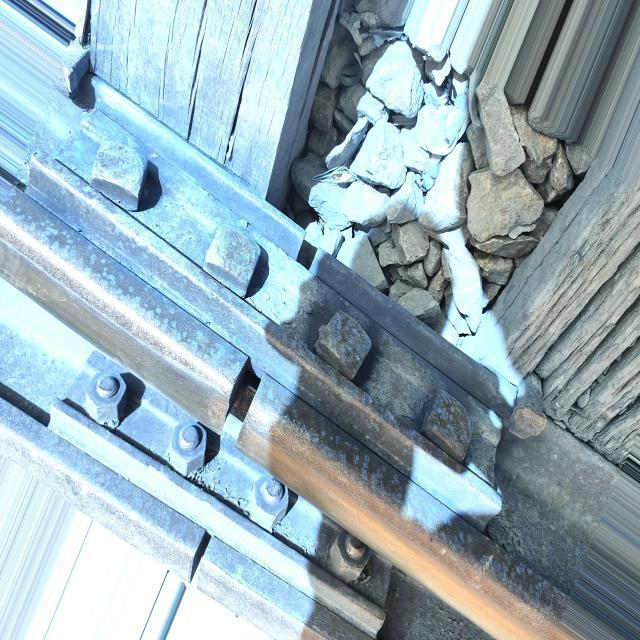Good Joint: (19, 90, 507, 534), (42, 349, 392, 637)
